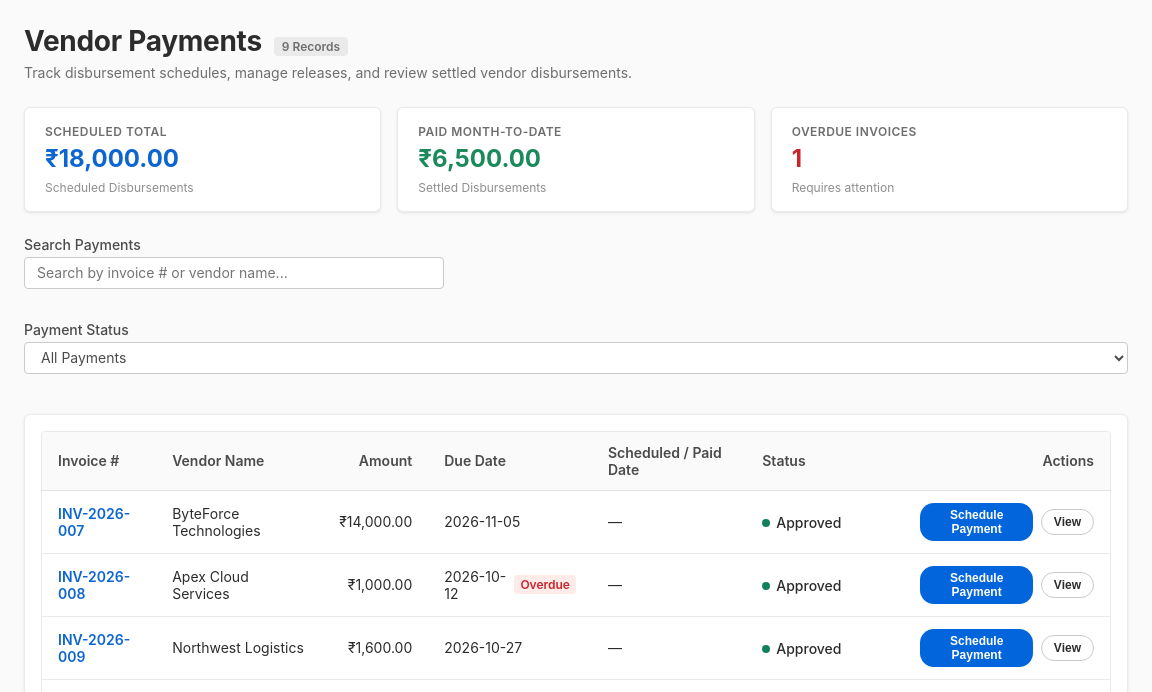
PaymentsPage › Payment Disbursement Actions › allows scheduling payment for Approved invoice via SchedulePaymentModal
Click Schedule Payment for INV-2026-007
Click the button with test id "action-schedule-inv-7" at coordinates (977, 522), box 920,503 -> 1033,541
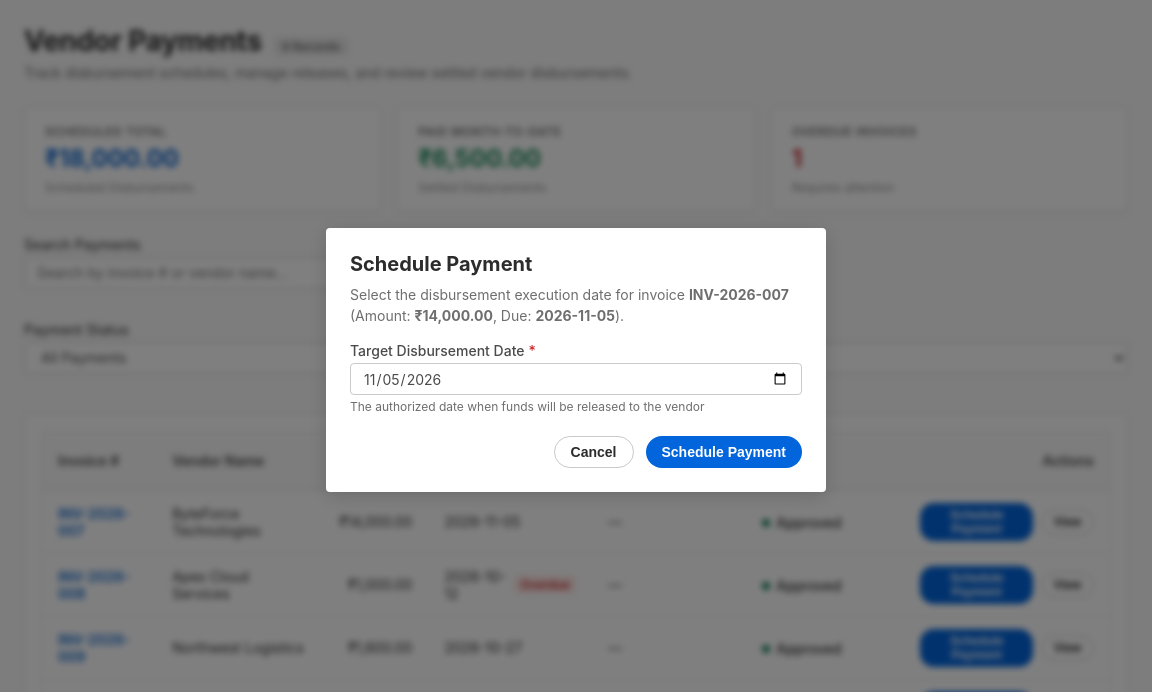
Now the dialog with test id "schedule-payment-modal-dialog" is shown, box 326,228 -> 826,492
Now the date field with test id "schedule-disbursement-date-input" is shown
Type "2026-09-29" into the date field with test id "schedule-disbursement-date-input" at coordinates (576, 379), box 350,363 -> 802,395
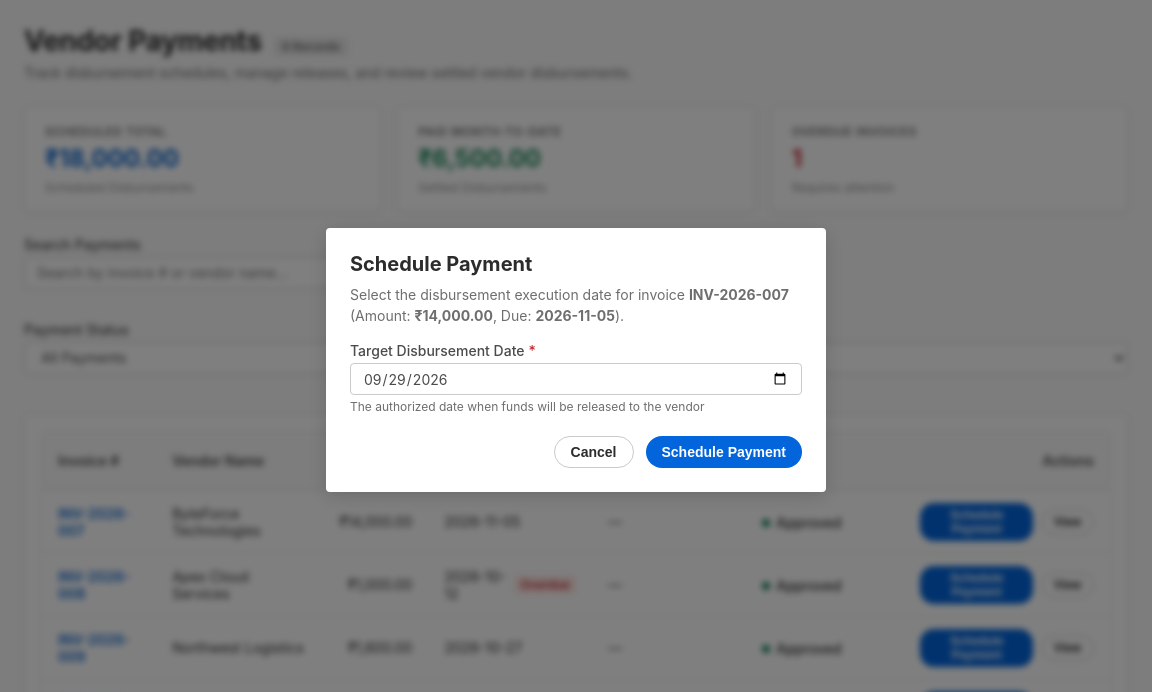
Confirm schedule
Click the button with test id "confirm-schedule-payment-btn" at coordinates (724, 452), box 646,436 -> 802,468
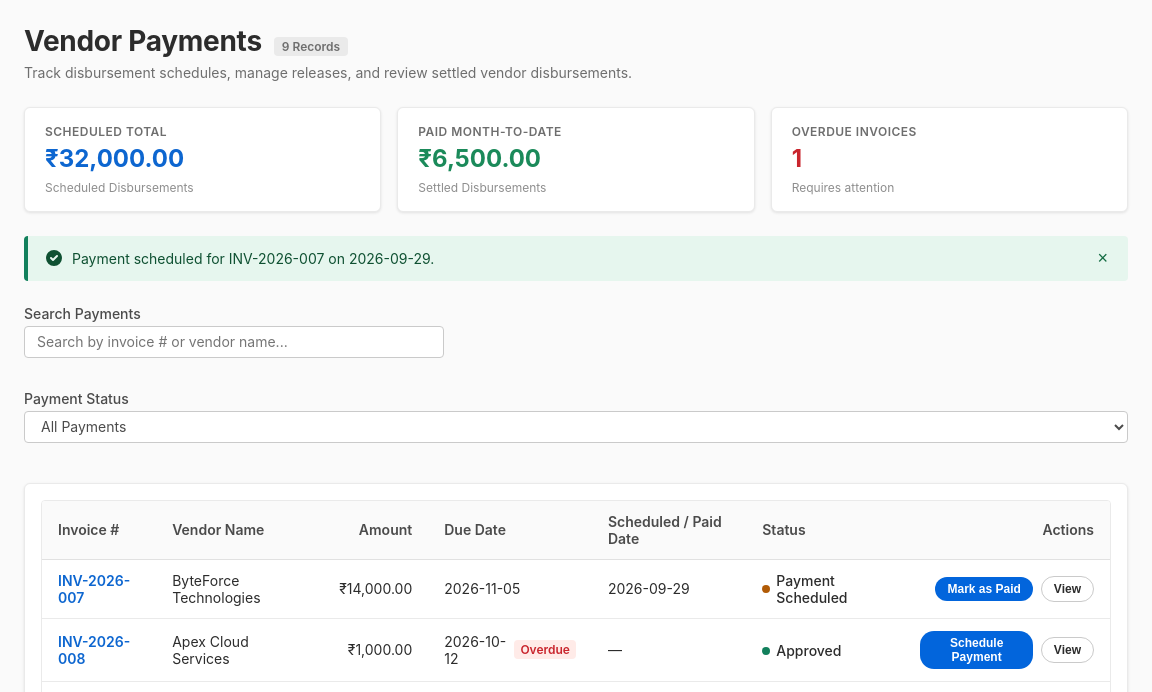
Now the message "Payment scheduled for INV-2026-007 on 2026-09-29. ×" is shown, box 24,236 -> 1128,281
Now the text "Payment scheduled for INV-2026-007 on 2026-09-29." is shown, box 72,250 -> 434,267
